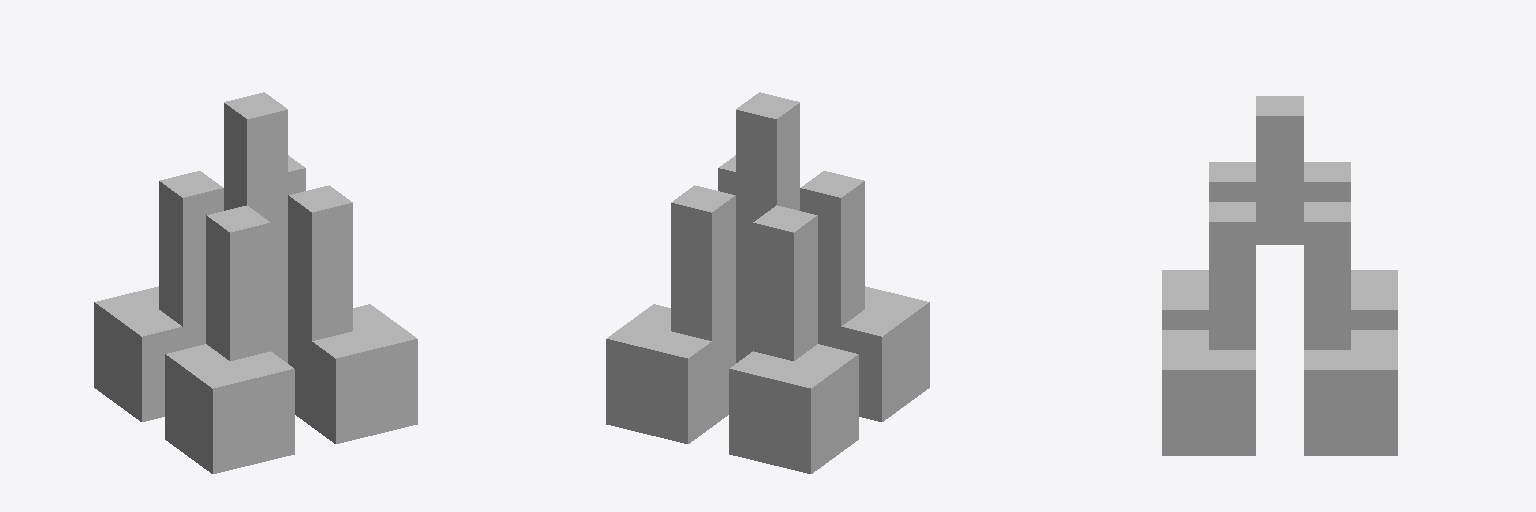
File: lamp2 (hang on the ceiling).obj
3 views of the same model, side by side, from view 1: azimuth 30°, elevation 25°; view 2: azimuth 150°, elevation 25°; view 3: azimuth 270°, elevation 25° (orthographic).
Visible parts, largest first — view 1: object 1; view 2: object 1; view 3: object 1.
Part boxes in pixels (left/top/right/bottom): object 1: left=94, top=92, right=417, bottom=473; object 1: left=606, top=92, right=929, bottom=473; object 1: left=1162, top=96, right=1397, bottom=455.
Size of the model in its own units: 0.5 by 0.7 by 0.5.